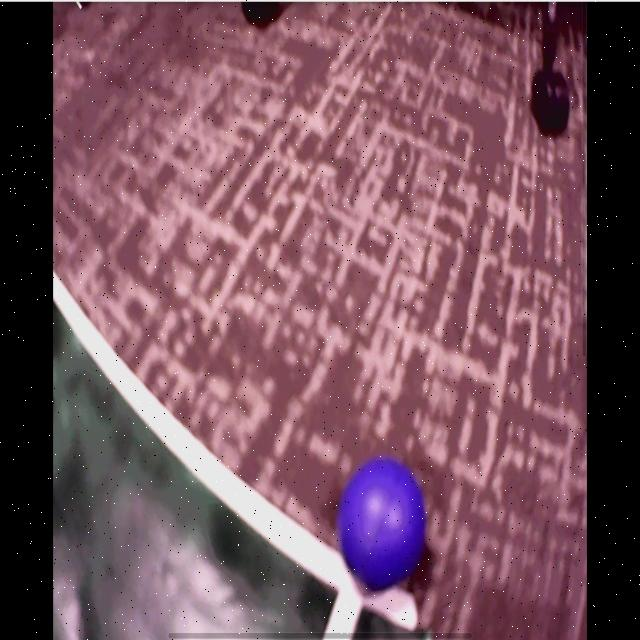ball: (340, 459, 426, 590)
